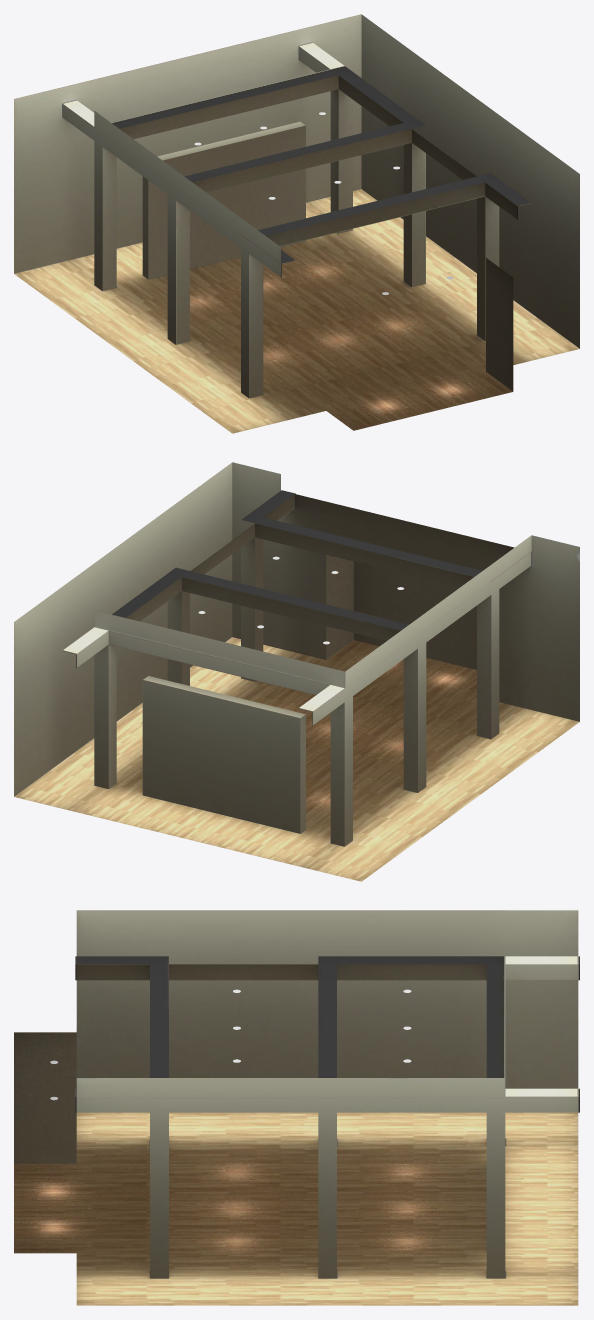
The model's file is Virtual Gallery.gltf.
3 views of the same model, one above another, from view 1: azimuth 30°, elevation 25°; view 2: azimuth 150°, elevation 25°; view 3: azimuth 270°, elevation 25° (orthographic). The views are drawn at different scales.
Parts seen in each view (by area): view 1: Room; view 2: Room; view 3: Room.
Part boxes in pixels (x1,y1,x2,y2): Room: [14, 14, 579, 433]; Room: [14, 462, 579, 881]; Room: [14, 910, 579, 1305].
Bounding box in the file's own units: 11.02 × 5.3 × 13.54.
2 materials, 1 textured.
